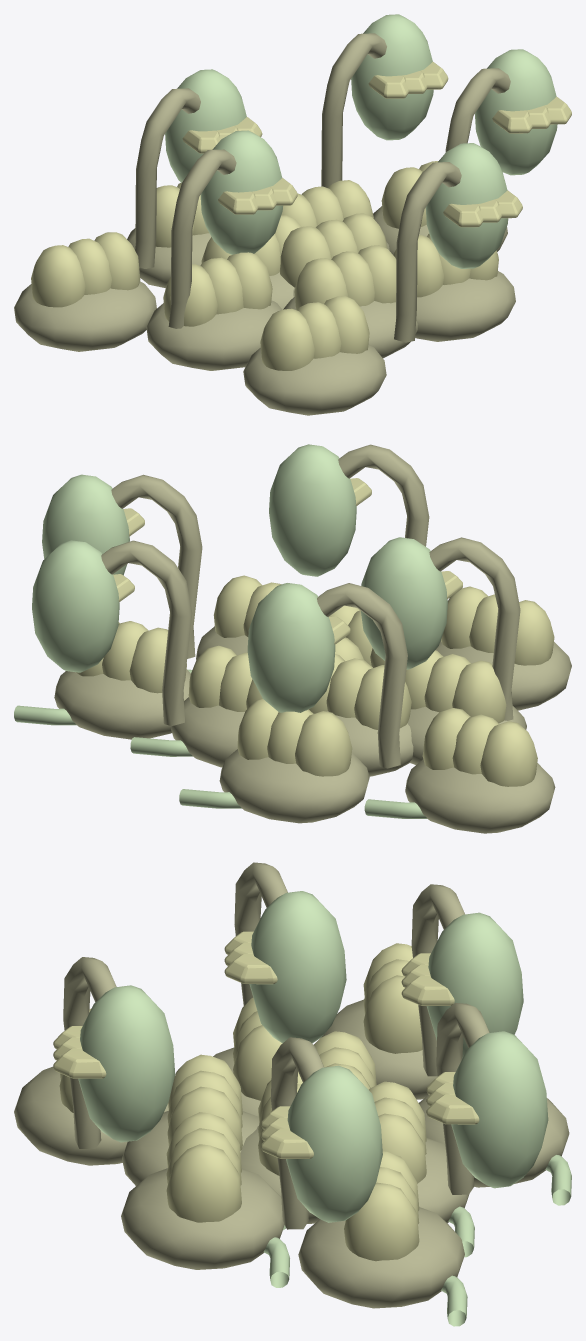
Rendered from bio_acid_mat_03_far.glb.
The picture shows the model from 3 angles, top to bottom: view 1: azimuth 30°, elevation 25°; view 2: azimuth 150°, elevation 25°; view 3: azimuth 270°, elevation 25°; orthographic projection. The views are drawn at different scales.
Parts seen in each view (by area): view 1: Microbial cushion.007, Microbial cushion.009, Pendant spore capsule.003, Pendant spore capsule.002, Pendant spore capsule.004, Pendant spore capsule, Reaction vesicle.027, Reaction vesicle.021, Microbial cushion.004, Microbial cushion.005, Reaction vesicle.012, Reaction vesicle.006 (+21 smaller); view 2: Pendant spore capsule.002, Pendant spore capsule.003, Pendant spore capsule.001, Microbial cushion.006, Microbial cushion.009, Pendant spore capsule.004, Reaction vesicle.027, Reaction vesicle.018, Microbial cushion.008, Arched fruit stem.001, Arched fruit stem.003, Pendant spore capsule (+19 smaller); view 3: Pendant spore capsule.002, Pendant spore capsule.003, Pendant spore capsule, Pendant spore capsule.004, Microbial cushion.005, Microbial cushion.008, Pendant spore capsule.001, Reaction vesicle.015, Reaction vesicle.024, Microbial cushion.007, Reaction vesicle.027, Reaction vesicle.006 (+23 smaller).
Part boxes in pixels (bbox=[...]): Microbial cushion.007: bbox=[243, 344, 386, 415]; Microbial cushion.009: bbox=[14, 281, 156, 351]; Pendant spore capsule.003: bbox=[351, 14, 433, 140]; Pendant spore capsule.002: bbox=[425, 143, 508, 268]; Pendant spore capsule.004: bbox=[200, 130, 282, 254]; Pendant spore capsule: bbox=[475, 49, 557, 175]; Reaction vesicle.027: bbox=[31, 232, 140, 307]; Reaction vesicle.021: bbox=[260, 296, 369, 370]; Microbial cushion.004: bbox=[146, 300, 282, 370]; Microbial cushion.005: bbox=[415, 271, 515, 341]; Reaction vesicle.012: bbox=[163, 252, 272, 326]; Reaction vesicle.006: bbox=[294, 245, 396, 310]; Pendant spore capsule.002: bbox=[269, 444, 356, 576]; Pendant spore capsule.003: bbox=[32, 540, 119, 672]; Pendant spore capsule.001: bbox=[247, 583, 335, 712]; Microbial cushion.006: bbox=[219, 749, 369, 823]; Microbial cushion.009: bbox=[405, 759, 555, 833]; Pendant spore capsule.004: bbox=[361, 537, 447, 669]; Reaction vesicle.027: bbox=[422, 708, 537, 786]; Reaction vesicle.018: bbox=[237, 698, 352, 776]; Microbial cushion.008: bbox=[54, 669, 190, 739]; Arched fruit stem.001: bbox=[317, 583, 407, 768]; Arched fruit stem.003: bbox=[101, 540, 192, 725]; Pendant spore capsule: bbox=[42, 474, 129, 575]; Pendant spore capsule.002: bbox=[78, 985, 175, 1142]; Pendant spore capsule.003: bbox=[451, 1031, 548, 1188]; Pendant spore capsule: bbox=[286, 1065, 382, 1222]; Pendant spore capsule.004: bbox=[249, 891, 346, 1043]; Microbial cushion.005: bbox=[121, 1168, 284, 1269]; Microbial cushion.008: bbox=[298, 1207, 464, 1308]; Pendant spore capsule.001: bbox=[426, 912, 523, 1058]; Reaction vesicle.015: bbox=[166, 1112, 241, 1222]; Reaction vesicle.024: bbox=[344, 1151, 419, 1261]; Microbial cushion.007: bbox=[14, 1066, 168, 1165]; Reaction vesicle.027: bbox=[363, 943, 422, 1053]; Reaction vesicle.006: bbox=[167, 1054, 242, 1150].
Size of the model in its own units: 1.9 by 0.7658 by 1.47.
